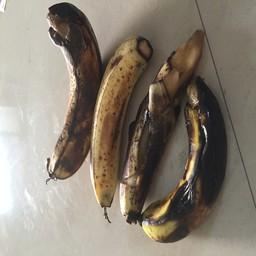Bad_banana: (35, 6, 234, 251)
